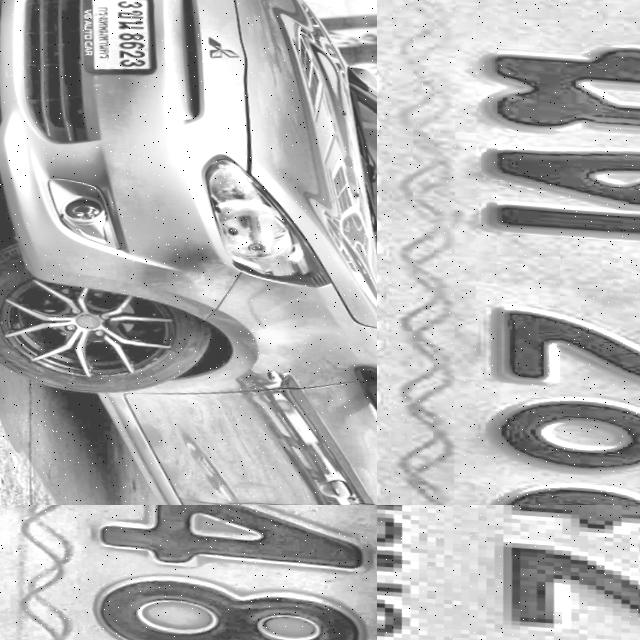license-plate: (377, 0, 640, 505), (0, 505, 377, 640), (377, 505, 640, 640), (71, 0, 160, 79)
